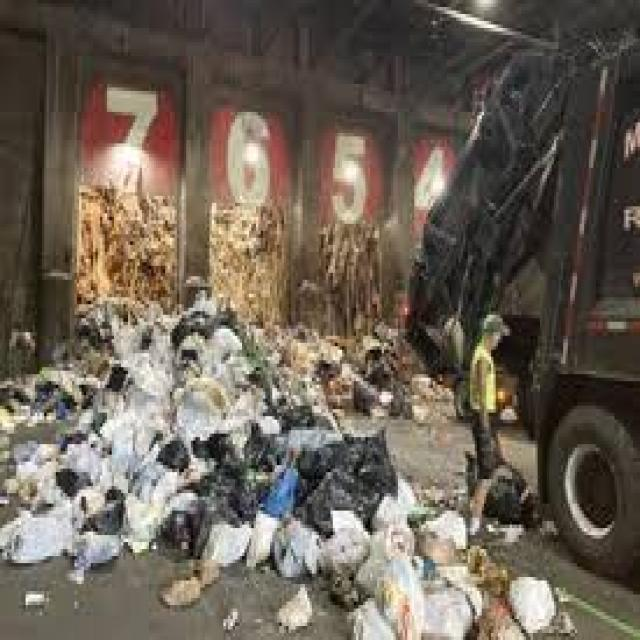Trashbag: (297, 433, 396, 528), (223, 474, 269, 518), (156, 508, 198, 556), (194, 424, 234, 463), (155, 434, 190, 477)
